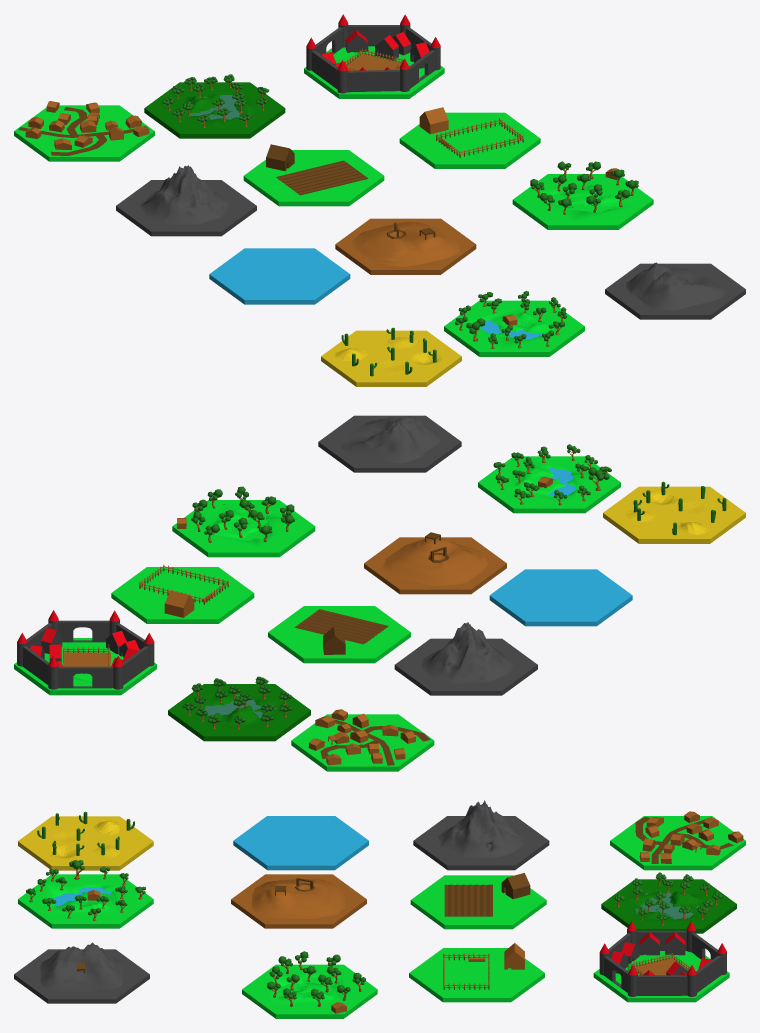
File: hexagonTiles.fbx
3 renders of one model, top to bottom at view 1: azimuth 30°, elevation 25°; view 2: azimuth 150°, elevation 25°; view 3: azimuth 270°, elevation 25°, orthographic. The views are drawn at different scales.
Parts seen in each view (by area): view 1: Cylinder.003, sea, tile mine, dessert, tile animalFarm, tile crop Farm, sea.002, clay pit.002, Landscape.019, sea.001, forestlake, sea.003 (+13 smaller); view 2: Cylinder.003, tile mine, sea, dessert, tile animalFarm, tile crop Farm, sea.002, clay pit.002, Landscape.019, sea.001, sea.003, normal forest (+13 smaller); view 3: Cylinder.003, tile mine, sea, dessert, tile animalFarm, tile crop Farm, sea.002, clay pit.002, forestlake, Landscape.019, sea.001, normal forest (+15 smaller).
Part boxes in pixels (x1,y1,x2,y2): Cylinder.003: [306, 14, 440, 93]; sea: [209, 248, 350, 304]; tile mine: [605, 262, 745, 319]; dessert: [321, 330, 461, 386]; tile animalFarm: [399, 112, 540, 168]; tile crop Farm: [243, 150, 384, 206]; sea.002: [14, 105, 154, 161]; clay pit.002: [350, 221, 459, 266]; Landscape.019: [139, 165, 230, 224]; sea.001: [116, 180, 256, 236]; forestlake: [444, 300, 584, 356]; sea.003: [144, 82, 285, 138]; Cylinder.003: [17, 610, 154, 689]; tile mine: [318, 415, 461, 472]; sea: [489, 569, 632, 626]; dessert: [603, 486, 745, 543]; tile animalFarm: [111, 567, 254, 623]; tile crop Farm: [268, 606, 410, 663]; sea.002: [291, 714, 434, 771]; clay pit.002: [382, 538, 488, 585]; Landscape.019: [421, 622, 513, 683]; sea.001: [394, 638, 537, 695]; sea.003: [168, 684, 310, 741]; normal forest: [172, 500, 315, 557]; Cylinder.003: [599, 920, 726, 996]; tile mine: [14, 942, 149, 1003]; sea: [233, 816, 368, 870]; dessert: [18, 816, 153, 870]; tile animalFarm: [409, 948, 544, 1002]; tile crop Farm: [410, 875, 546, 929]; sea.002: [610, 816, 745, 870]; clay pit.002: [251, 879, 344, 918]; forestlake: [18, 874, 153, 928]; Landscape.019: [438, 800, 524, 858]; sea.001: [413, 816, 549, 870]; normal forest: [242, 964, 377, 1018].
Bounding box in the file's own units: 678 × 80.63 × 1077.
